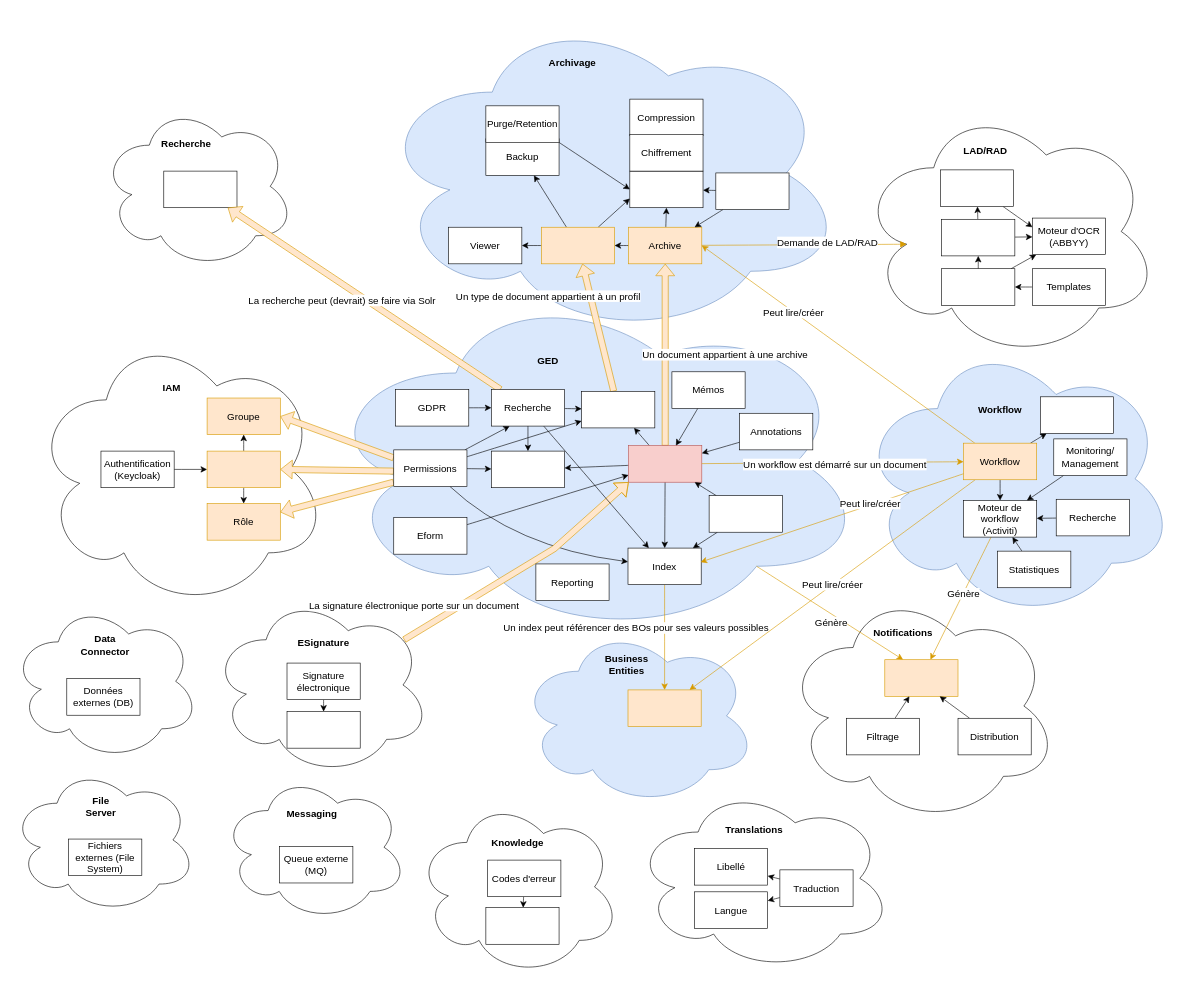
Image size: 1185x987. Some labels were removed from this diagram. Each missing label, with the box of its shape:
Business Object: (627, 689, 701, 727)
Catégorisation: (941, 268, 1015, 305)
Classeur: (491, 450, 565, 488)
Document: (628, 445, 702, 482)
Document type: (581, 391, 655, 428)
Extraction de données: (941, 219, 1015, 256)
Extraction de texte: (940, 169, 1014, 206)
File Monitoring: (715, 172, 789, 210)
Formulaires: (1040, 396, 1114, 433)
Messages d'erreur: (485, 907, 559, 944)
Moteur d'indexation (Solr): (163, 170, 237, 208)
Notification: (884, 659, 958, 696)
Profil: (541, 227, 615, 264)
Provider externe: (286, 711, 360, 748)
Stockage: (629, 170, 703, 208)
User: (206, 450, 280, 488)
Versioning: (709, 495, 782, 532)
